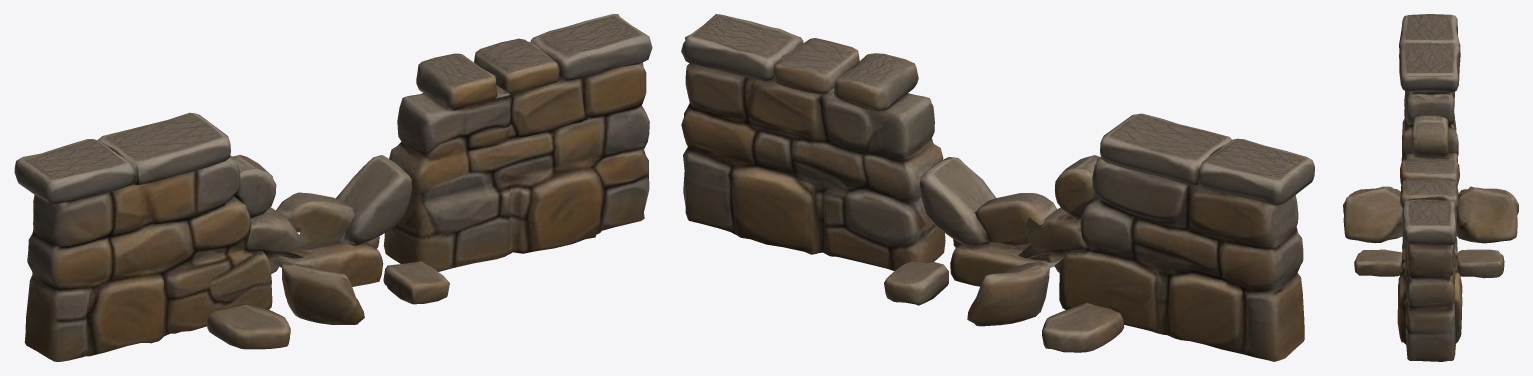
File: mt_muro_brecha.glb
3 views of the same model, side by side, from view 1: azimuth 30°, elevation 25°; view 2: azimuth 150°, elevation 25°; view 3: azimuth 270°, elevation 25° (orthographic). The views are drawn at different scales.
Parts seen in each view (by area): view 1: Mesh_0.001; view 2: Mesh_0.001; view 3: Mesh_0.001.
Boxes of the visible parts, x1,y1,x2,y2 form: Mesh_0.001: (14,14,652,361); Mesh_0.001: (681,14,1314,361); Mesh_0.001: (1343,14,1518,361).
Size of the model in its own units: 0.4536 by 0.1348 by 0.1553.
Materials: 1 (1 with a texture image).
